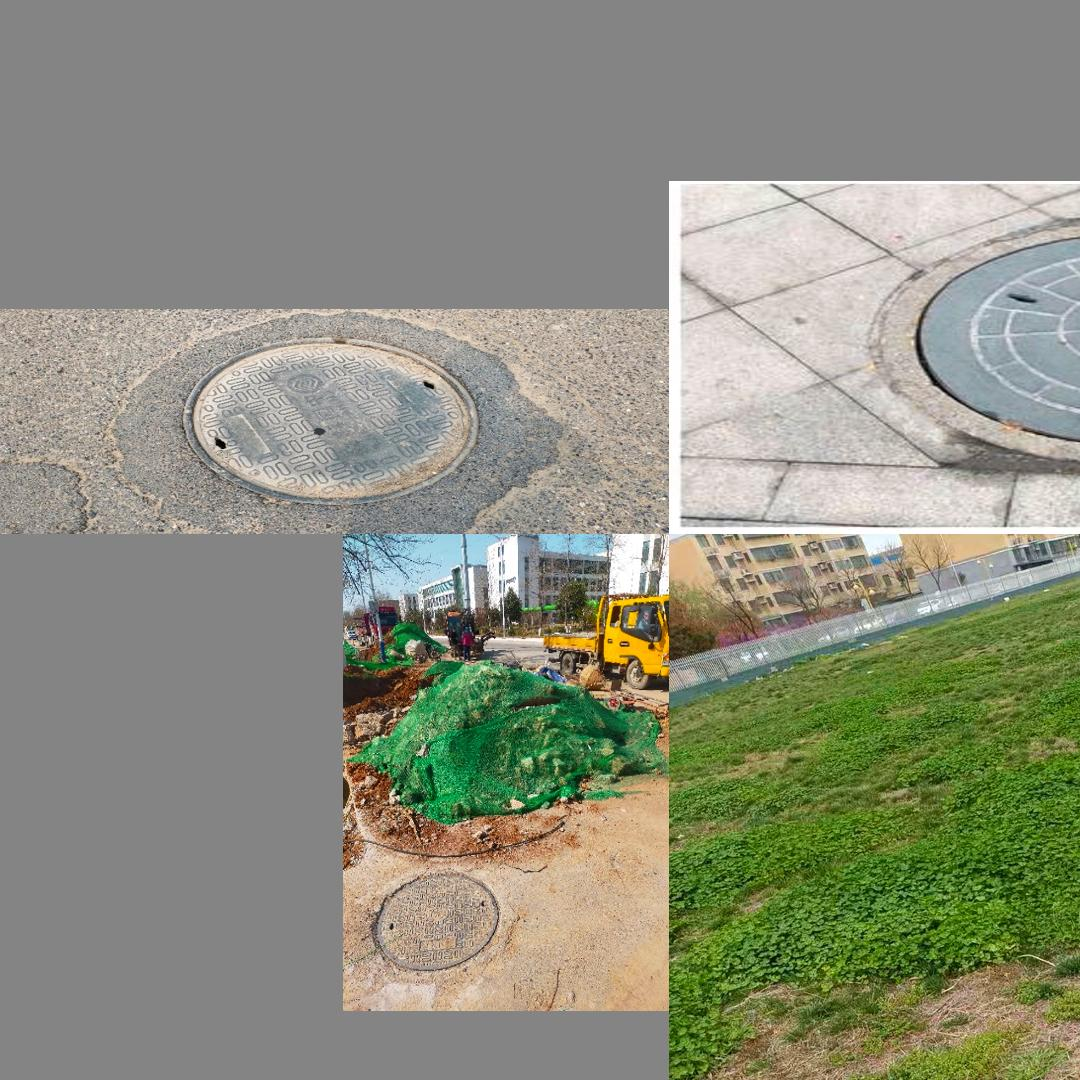good: (847, 203, 1080, 480), (178, 340, 482, 509), (373, 872, 498, 970), (938, 1030, 1080, 1080)
